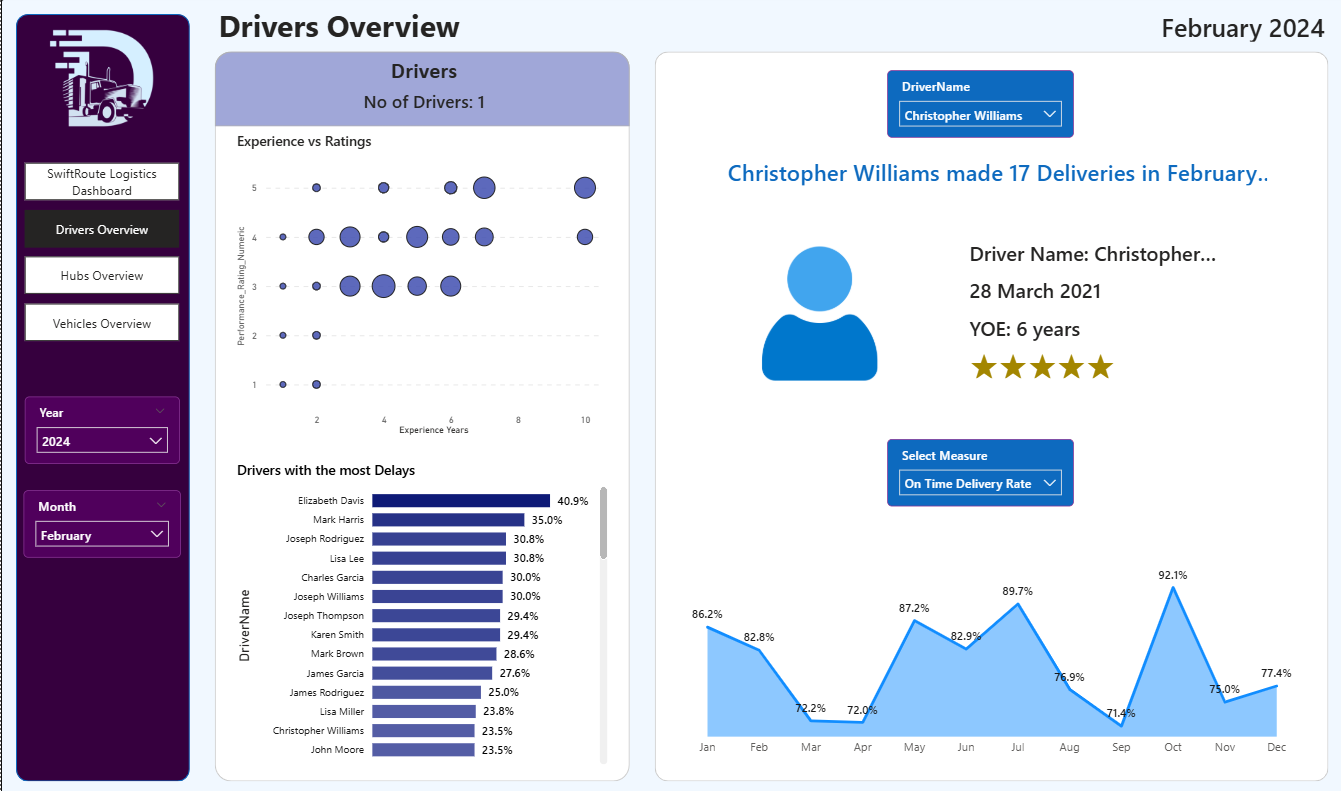

Layout of this report page (visuals, bound fields, positions):
{"tool":"powerbi","page":{"name":"Drivers Overview","canvas":[1450,850],"ordinal":1},"visuals":[{"type":"shape","box":[16,16,185.5,819.6],"z":0},{"type":"textbox","box":[221.6,1.3,279,58.7],"z":1000},{"type":"slicer","fields":{"Values":["Date  TAble.Month"]},"box":[24,524.6,168.2,72.1],"z":2000},{"type":"slicer","fields":{"Values":["Date  TAble.Year"]},"box":[25.4,424.5,165.5,72.1],"z":3000},{"type":"shape","box":[228.3,56.1,443.2,779.5],"z":4000},{"type":"shape","box":[228.3,56.1,443.2,80.1],"z":5000},{"type":"cardVisual","fields":{"Data":["Drivers.No of Drivers"]},"box":[272.3,92.1,359.1,30.7],"z":6000},{"type":"textbox","box":[272.3,56.1,359.1,52.1],"z":7000},{"type":"scatterChart","title":"Experience vs Ratings","fields":{"X":["Drivers.Experience Years"],"Y":["Drivers.Performance_Rating_Numeric"],"Size":["Sum(Drivers.Experience Years)1"]},"box":[246.9,141.5,405.8,329],"z":8000},{"type":"barChart","title":"Drivers with the most Delays","fields":{"Category":["Drivers.DriverName"],"Y":["Orders.Delayed Delivery Rate"]},"box":[246.9,492.5,405.8,329.7],"z":9000},{"type":"image","box":[30.7,21.4,156.2,134.8],"z":10000},{"type":"cardVisual","fields":{"Data":["Orders.Year Month Title"]},"box":[1221.3,6.7,210.9,44],"z":11000},{"type":"shape","box":[698.1,56.1,719.5,779.5],"z":12000},{"type":"slicer","fields":{"Values":["Drivers.DriverName"]},"box":[946.4,76.1,199,72],"z":13000},{"type":"cardVisual","fields":{"Data":["Drivers.Drivers Title"]},"box":[748.8,164.2,620.7,40],"z":14000},{"type":"cardVisual","fields":{"Data":["Drivers.Driver Name Title","Drivers.Hire Date","Drivers.YOE","Drivers.Star Rating"]},"box":[1005.1,236.3,369.7,189.5],"z":15000},{"type":"image","box":[763.5,264.3,221.6,142.8],"z":16000},{"type":"areaChart","fields":{"Y":["Orders.On Time Delivery Rate"],"Category":["Date  Table.Month Abr"]},"box":[727.5,594,662.1,222.9],"z":17000},{"type":"slicer","fields":{"Values":["Parameter.Parameter"]},"box":[946.4,469.9,199,72.1],"z":18000},{"type":"pageNavigator","box":[25.4,174.9,165.5,193.5],"z":19000}]}

Visuals, with their boxes in screenshot pixels (x1, y1, x2, y2), scaled from the page's 1450x850 canvas onto the 1341x791 screenshot:
shape: [15, 15, 186, 778]
textbox: [205, 1, 463, 56]
slicer - Date  TAble.Month: [22, 488, 178, 555]
slicer - Date  TAble.Year: [23, 395, 177, 462]
shape: [211, 52, 621, 778]
shape: [211, 52, 621, 127]
cardVisual - Drivers.No of Drivers: [252, 86, 584, 114]
textbox: [252, 52, 584, 101]
"Experience vs Ratings" scatterChart: [228, 132, 604, 438]
"Drivers with the most Delays" barChart: [228, 458, 604, 765]
image: [28, 20, 173, 145]
cardVisual - Orders.Year Month Title: [1129, 6, 1325, 47]
shape: [646, 52, 1311, 778]
slicer - Drivers.DriverName: [875, 71, 1059, 138]
cardVisual - Drivers.Drivers Title: [693, 153, 1267, 190]
cardVisual - Drivers.Driver Name Title x Drivers.Hire Date: [930, 220, 1271, 396]
image: [706, 246, 911, 379]
areaChart - Orders.On Time Delivery Rate x Date  Table.Month Abr: [673, 553, 1285, 760]
slicer - Parameter.Parameter: [875, 437, 1059, 504]
pageNavigator: [23, 163, 177, 343]
